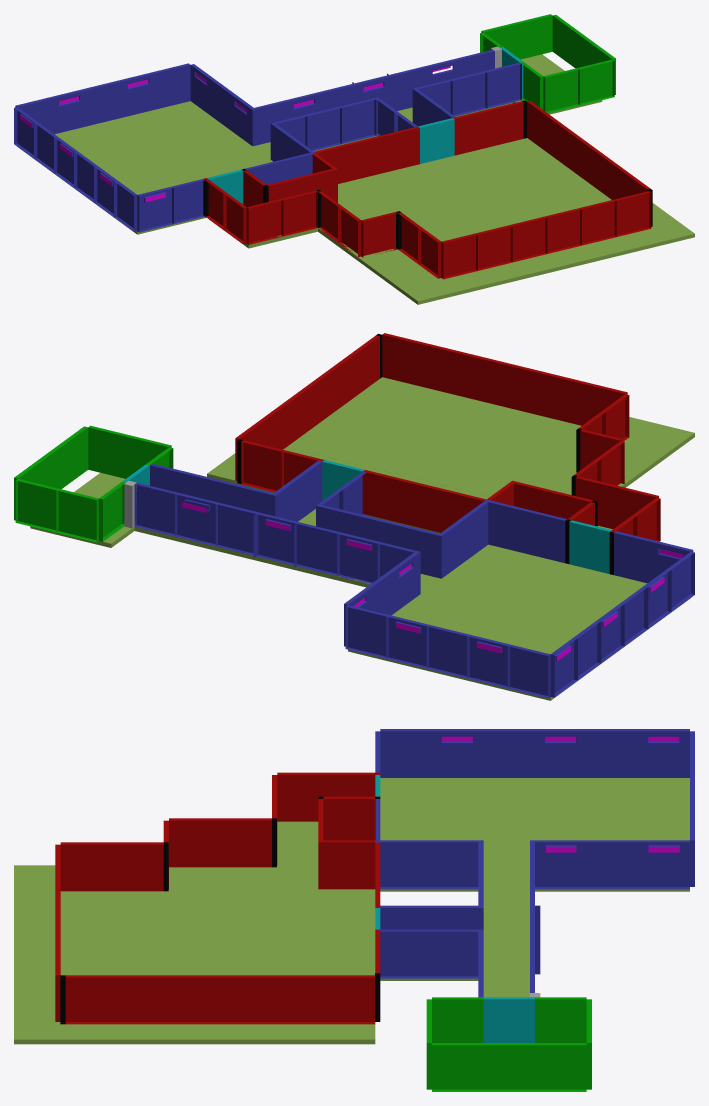
Rendered from EXP_Map_Merge.fbx.
The picture shows the model from 3 angles, top to bottom: view 1: azimuth 30°, elevation 25°; view 2: azimuth 150°, elevation 25°; view 3: azimuth 270°, elevation 25°; orthographic projection. The views are drawn at different scales.
Visible parts, largest first — view 1: pasted__Pavimento_2; view 2: pasted__Pavimento_2; view 3: pasted__Pavimento_2.
Part boxes in pixels (x1,y1,x2,y2): pasted__Pavimento_2: (14,14,694,304); pasted__Pavimento_2: (14,333,694,700); pasted__Pavimento_2: (14,729,694,1091).
Bounding box in the file's own units: 7250 × 550 × 6601.
